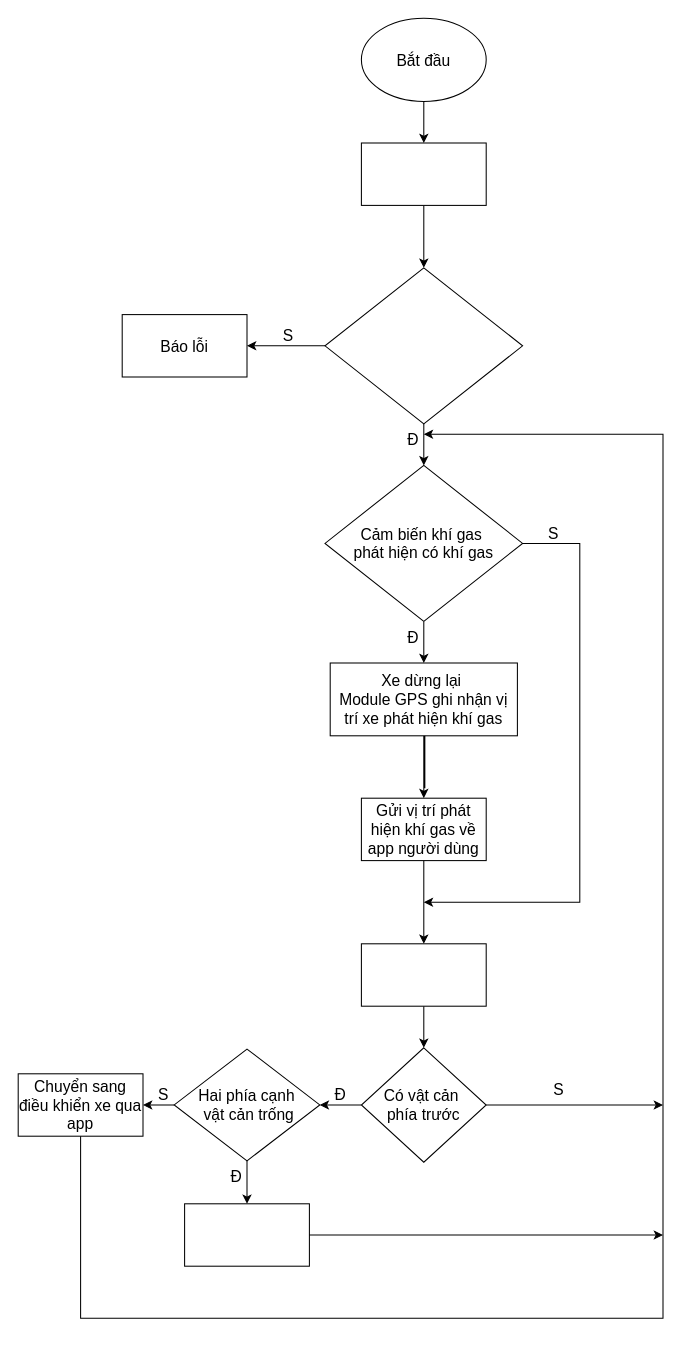
The diagram is 690 pixels wide and 1345 high, and some of its shapes have lost their labels. The shapes that lost their labels are listed below. From the top down, each one's box as (x1, y1, x2, y2) in pixels, then its label:
(360, 142, 486, 205): Khởi tạo các giá trị
(324, 267, 523, 424): Các cảm biến đang hoat động
(360, 943, 486, 1006): Tiếp tục di chuyển
(184, 1203, 309, 1266): Đi vòng qua vật cản
